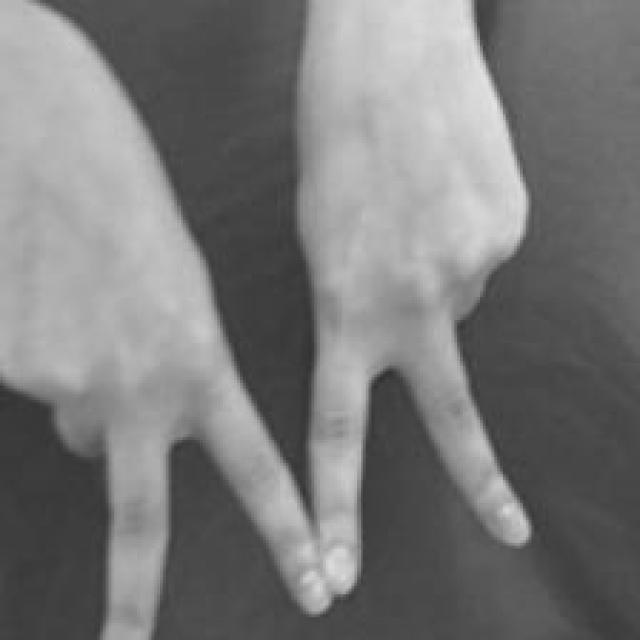M: (45, 65, 534, 640)
